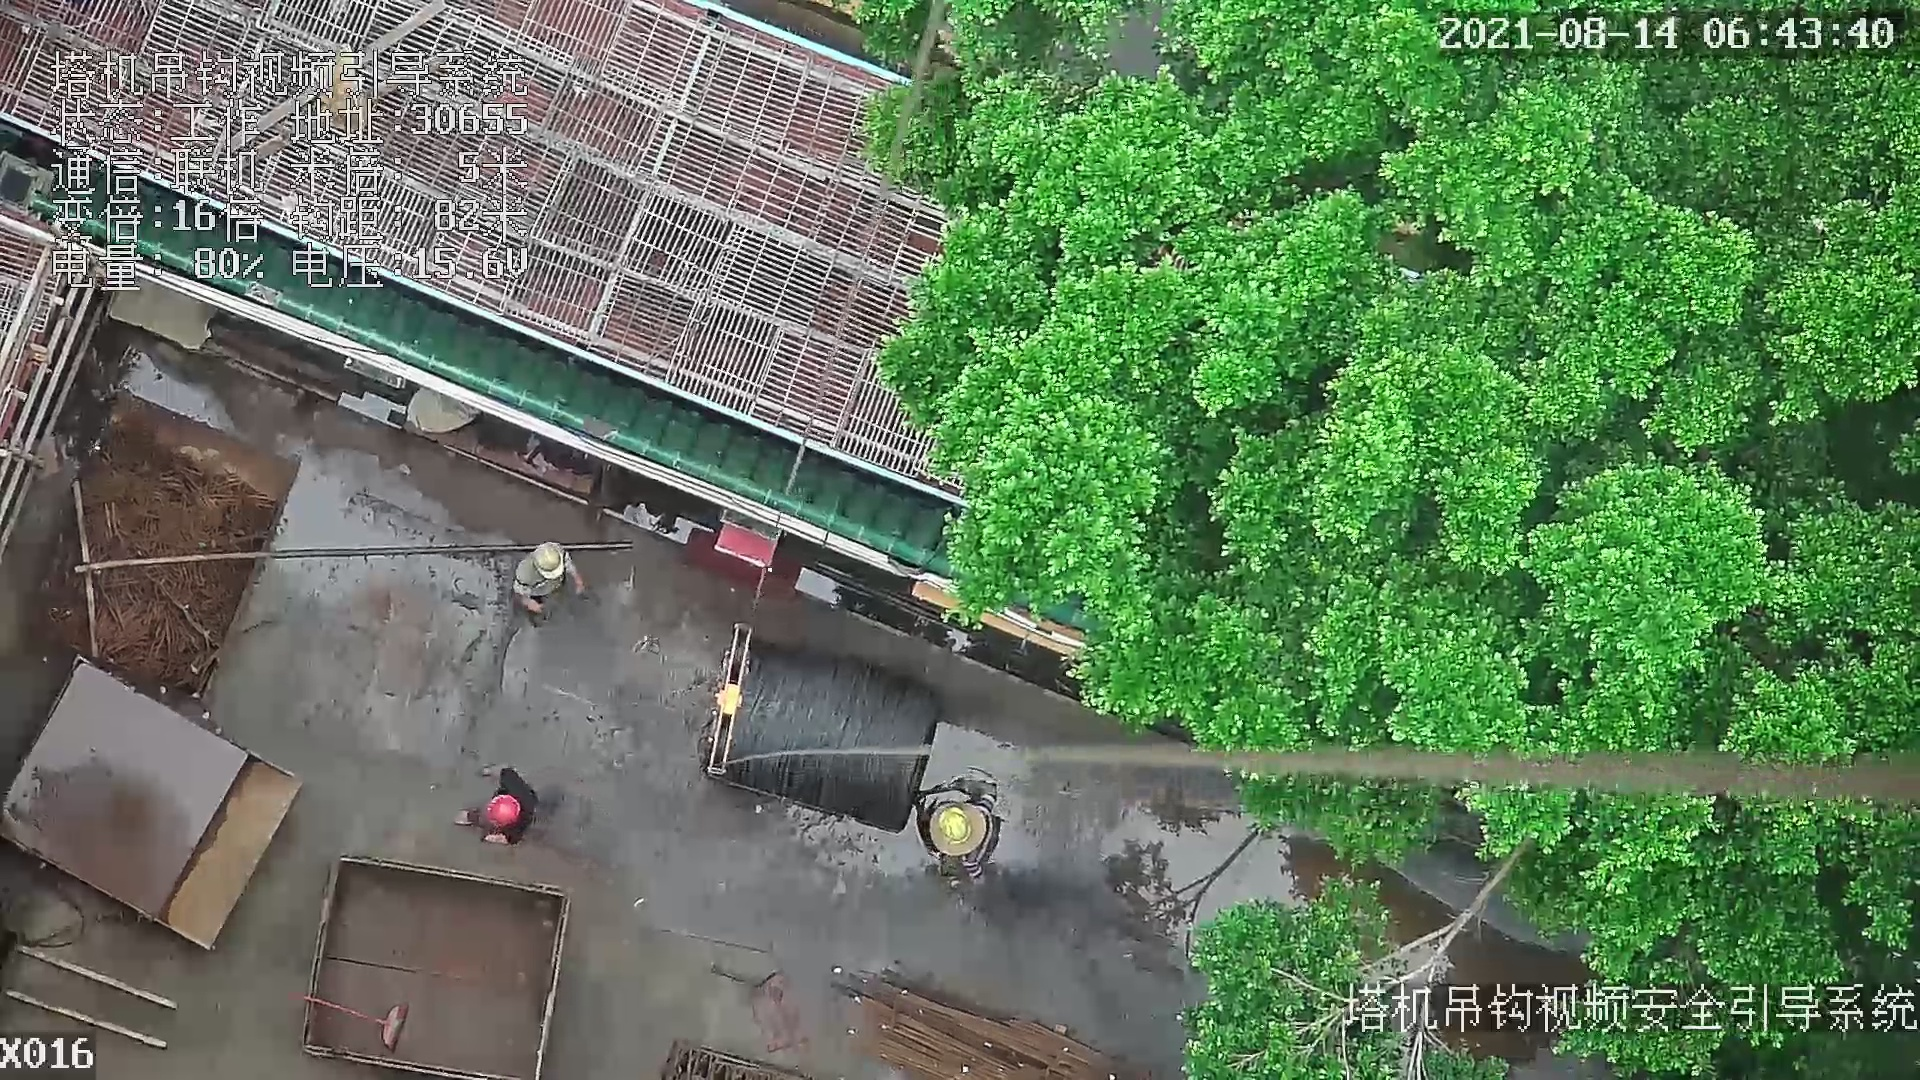helmet: (941, 808, 975, 849), (484, 793, 521, 828), (536, 542, 566, 576)
hook: (700, 617, 754, 776)
person: (904, 767, 1010, 889), (460, 760, 542, 856), (512, 547, 597, 624)
